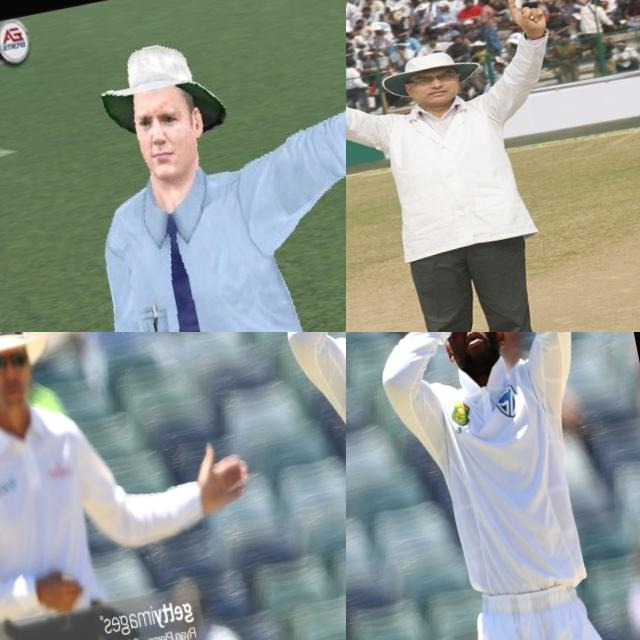No_Ball: (0, 332, 322, 640), (48, 0, 346, 332), (346, 332, 417, 640)
Six: (346, 0, 639, 332)
